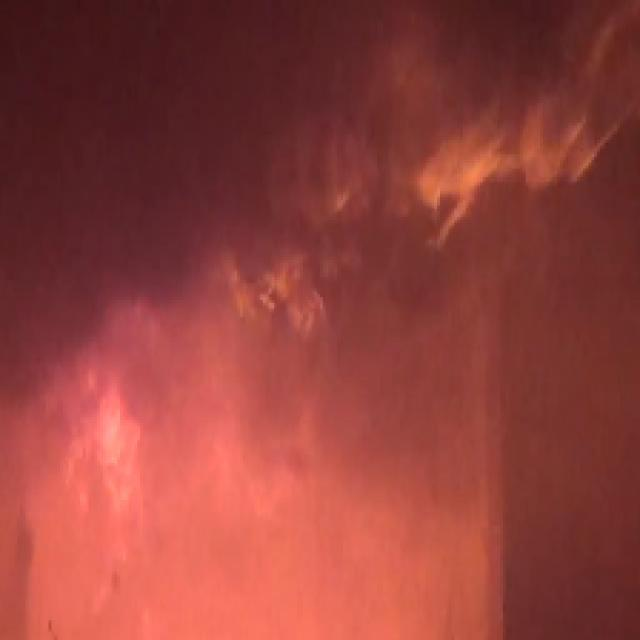Fire: (394, 63, 617, 223), (52, 354, 175, 537), (237, 262, 314, 328)
Smoke: (11, 9, 223, 348), (260, 334, 577, 512), (243, 8, 386, 255), (357, 246, 603, 326)
